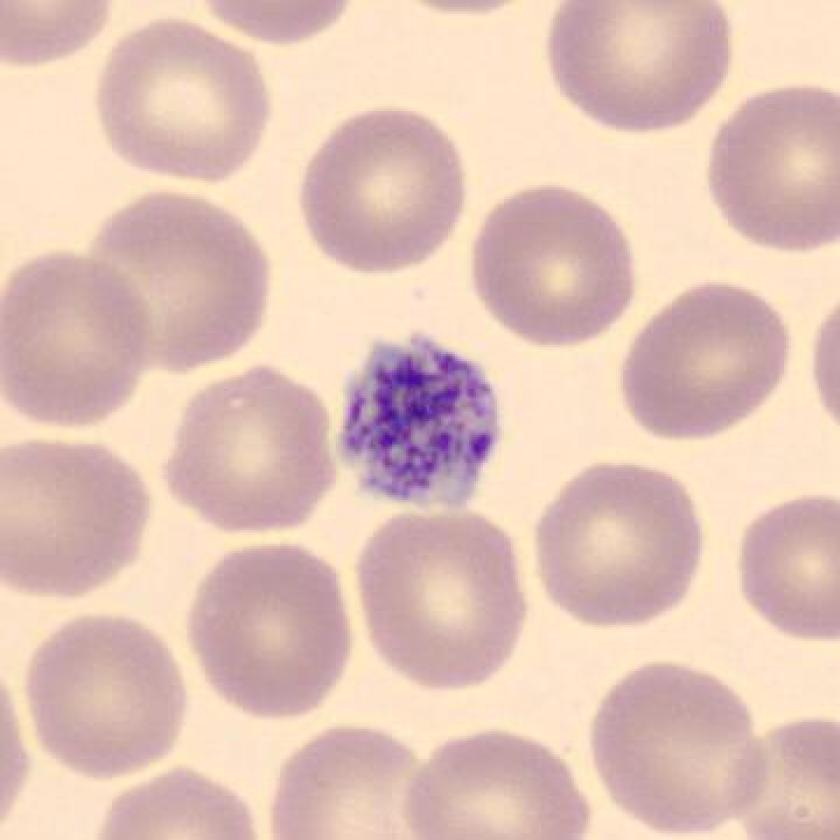platelets: (325, 325, 512, 524)
